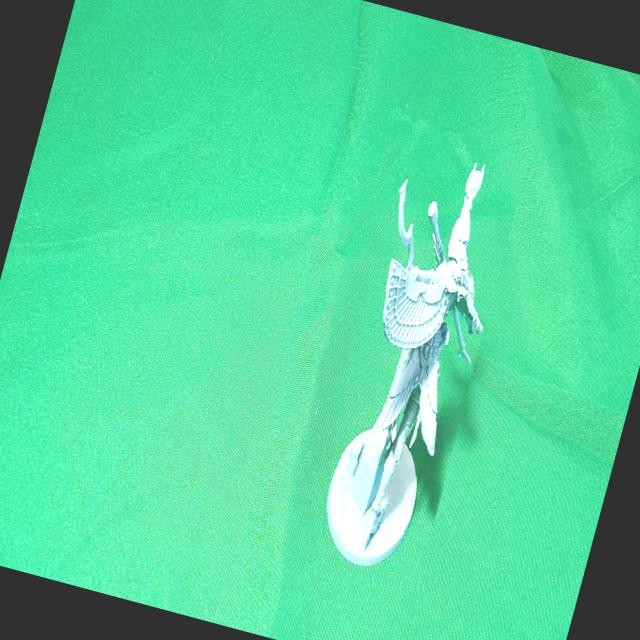isis: (278, 118, 532, 590)
